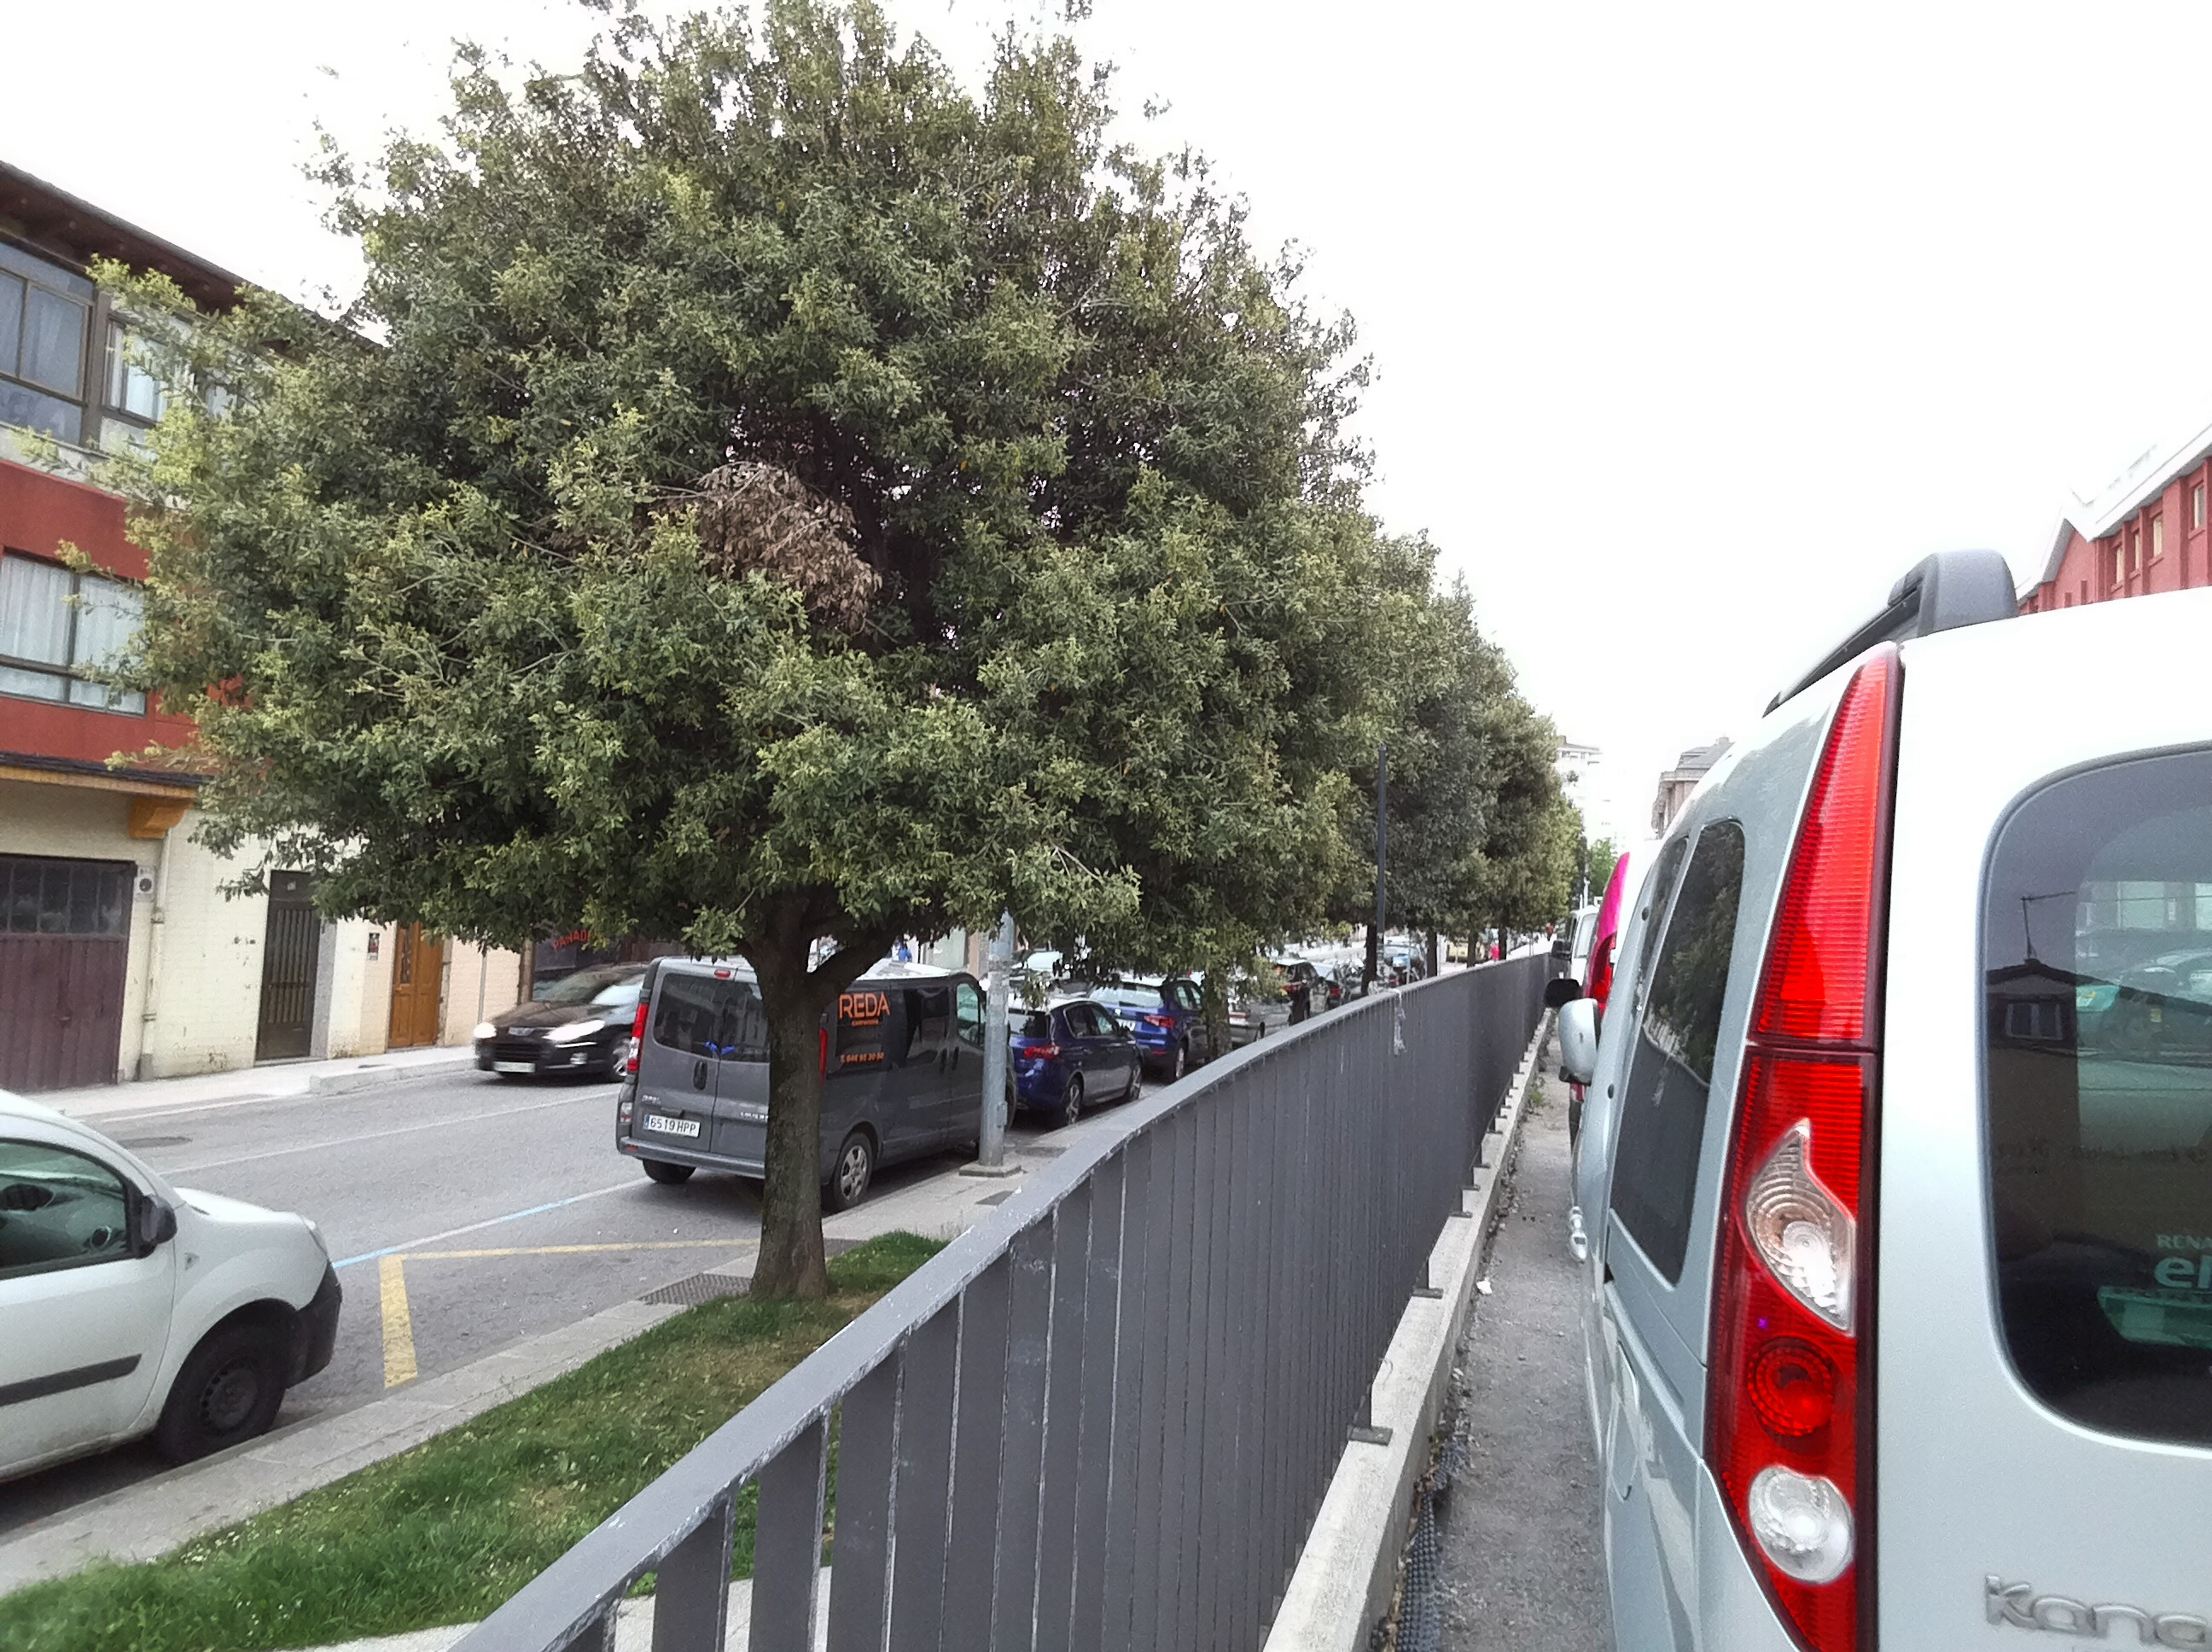Arbol: (165, 7, 1270, 967)
Valla: (467, 1024, 1386, 1652)
Vehiculo: (1556, 562, 2212, 1635)
